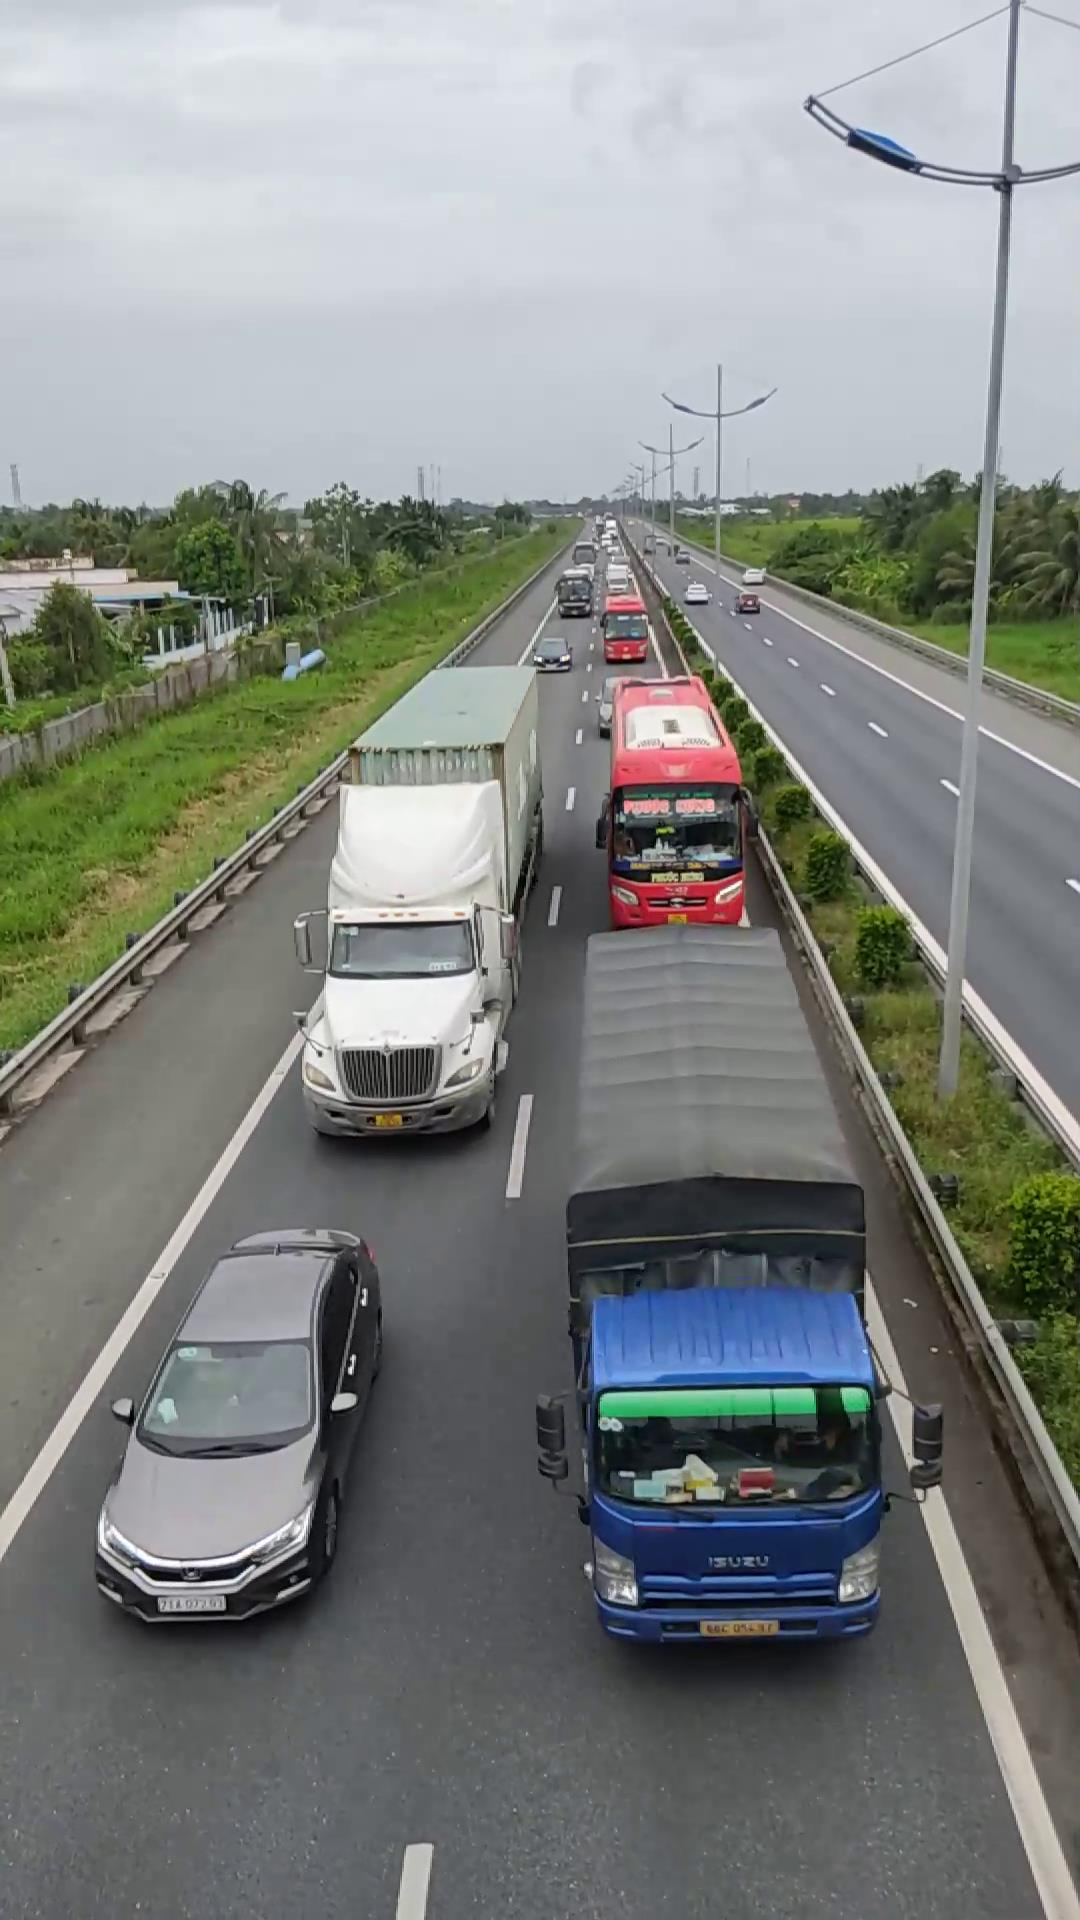bus: (596, 669, 754, 921)
car: (91, 1227, 388, 1621)
container: (300, 653, 546, 1141)
truck: (546, 942, 898, 1651)
